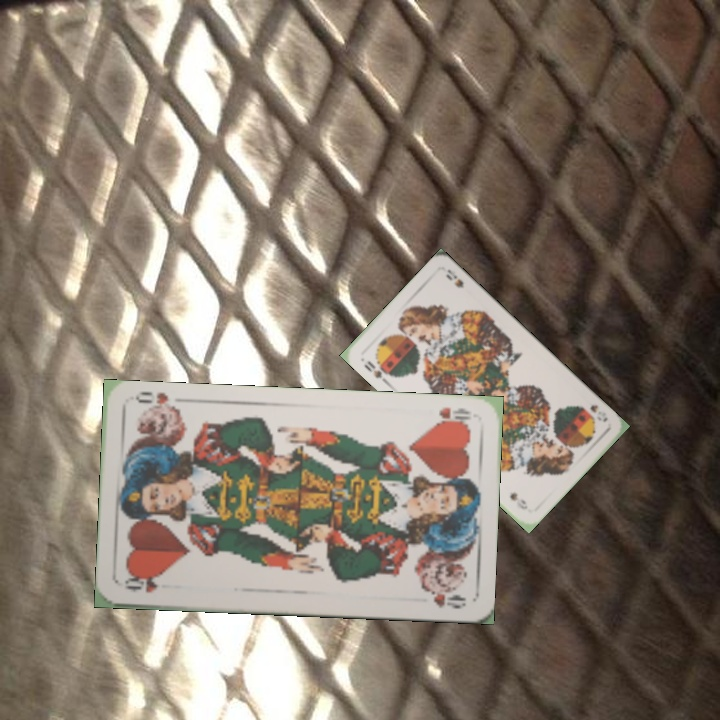HO: (428, 403, 474, 429), (121, 573, 160, 595)
SO: (360, 356, 394, 381), (586, 401, 611, 425)
